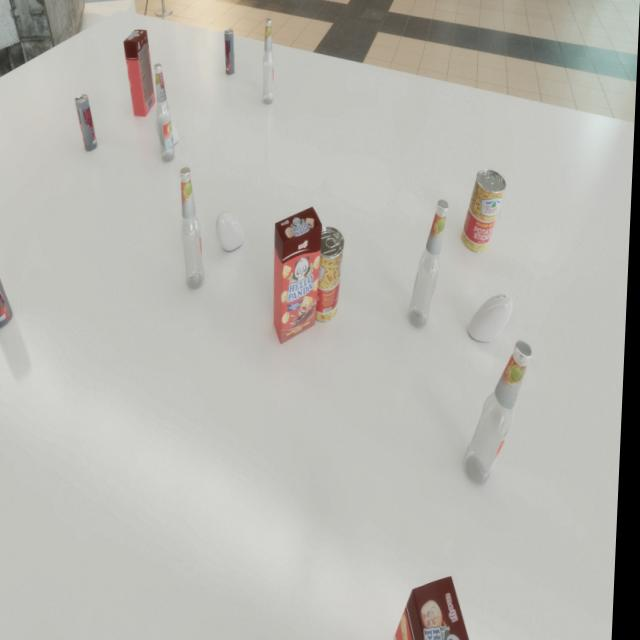Bottle: (467, 340, 536, 486), (411, 200, 451, 328), (177, 167, 211, 289), (151, 64, 180, 162), (261, 19, 277, 104)
HelloPanda: (273, 207, 325, 344), (121, 30, 159, 116)
Potato_sticks: (463, 169, 508, 253), (311, 226, 347, 322)
Rita_zero_sugar: (74, 94, 100, 152), (0, 249, 17, 328), (223, 29, 237, 75)
Salt: (470, 294, 516, 342), (217, 211, 247, 251), (156, 114, 181, 147)
